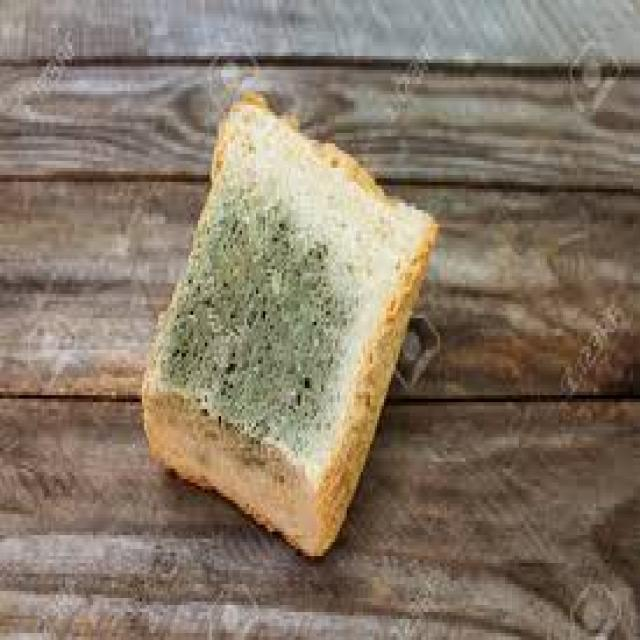organic waste: (135, 91, 438, 552)
